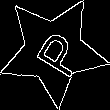P_NW: (23, 22, 84, 80)
